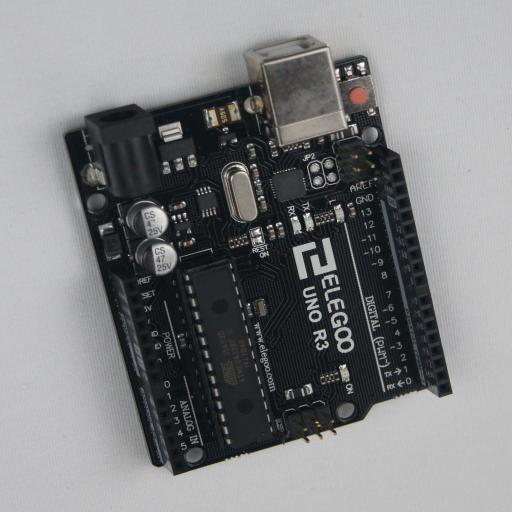NODEMCU_ESP8266: (62, 37, 452, 476)
